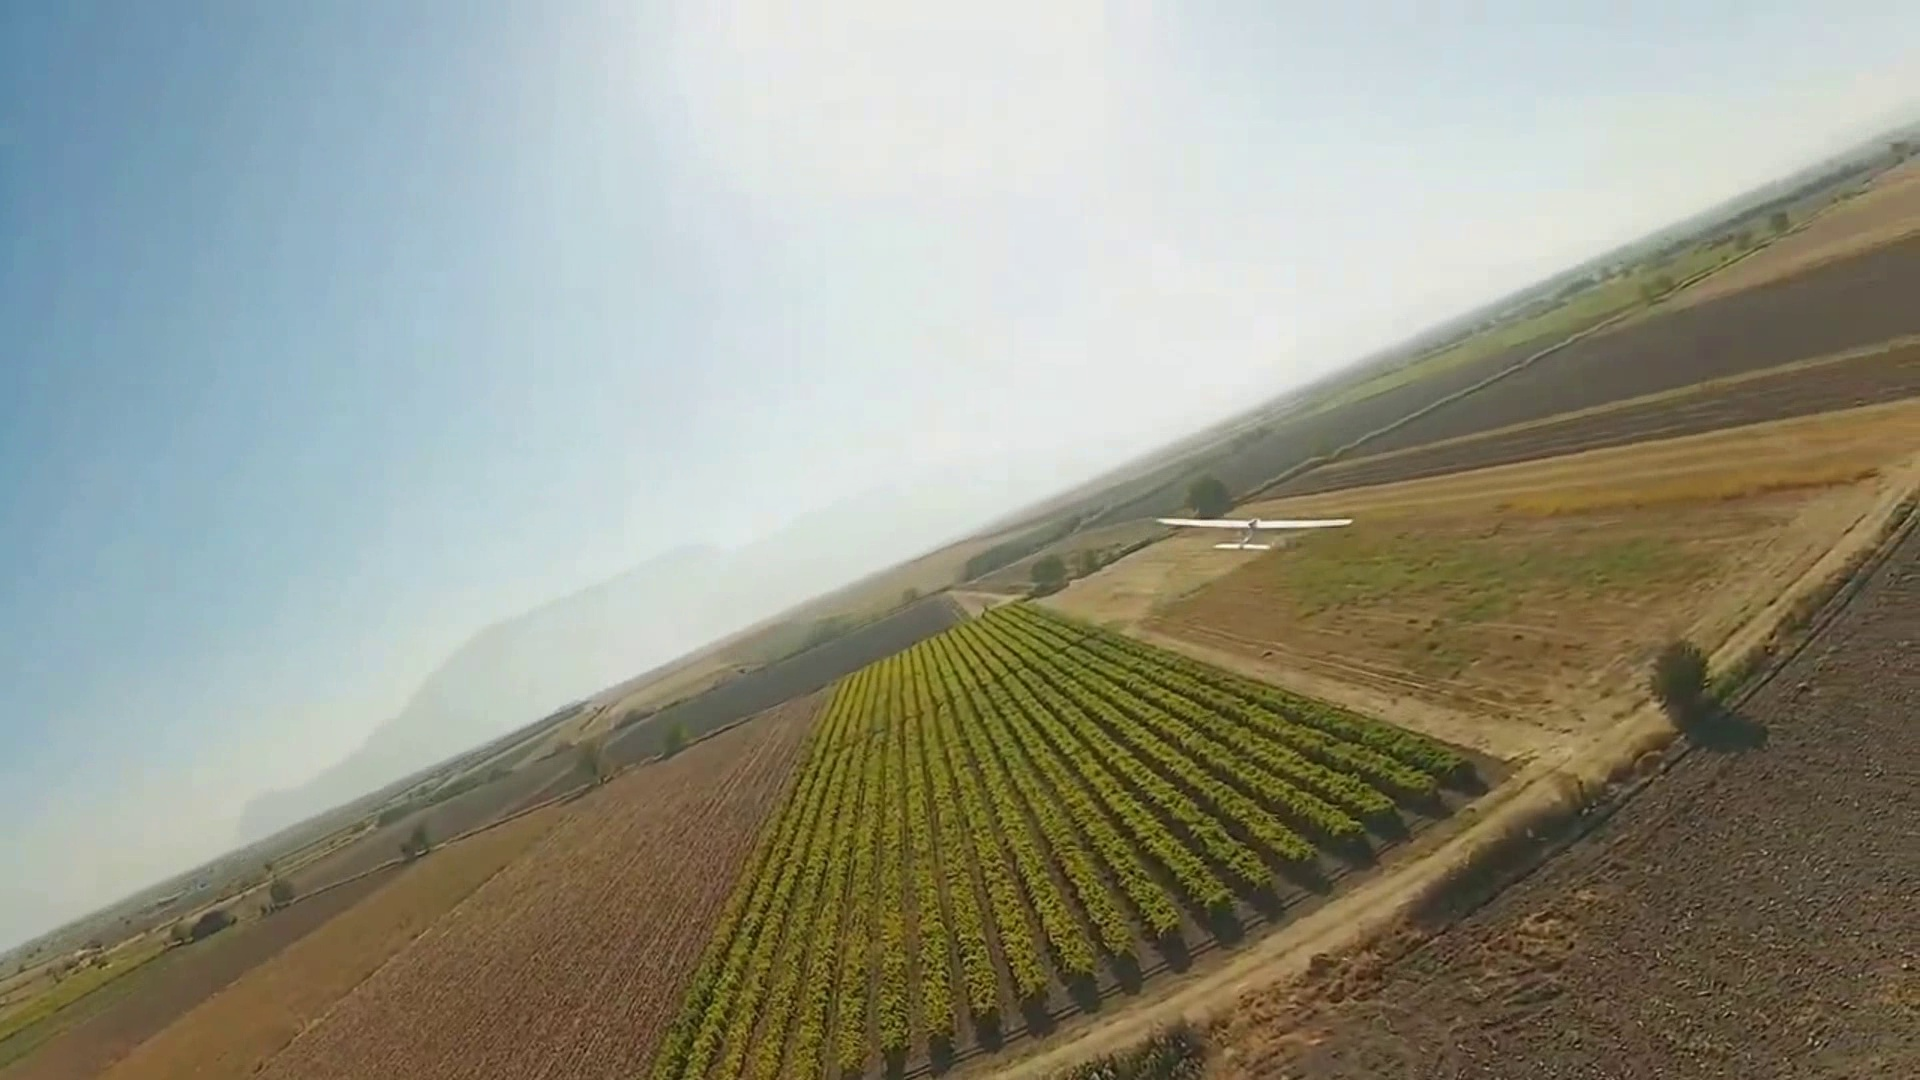airplane: (8, 132, 1912, 1052)
